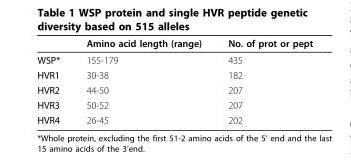table: (36, 37, 312, 125)
table column: (72, 37, 214, 125), (214, 37, 312, 125), (36, 37, 72, 125)
table column header: (36, 37, 312, 51)
table row: (36, 51, 312, 67), (36, 67, 312, 82), (36, 82, 312, 97), (36, 97, 312, 112), (36, 37, 312, 51), (36, 112, 312, 125)
